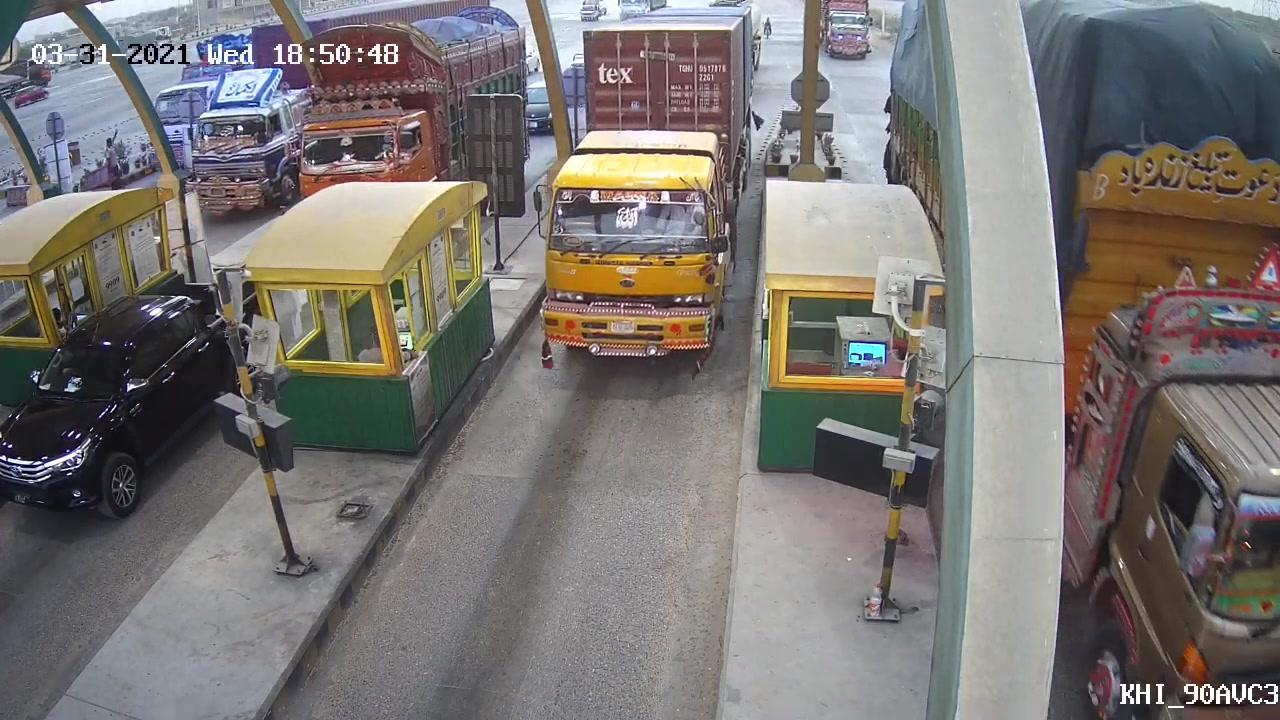F6: (519, 1, 764, 376)
